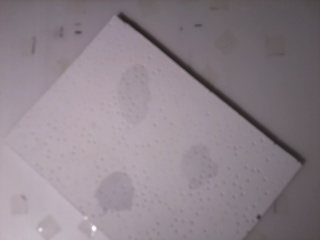Water_detected: (99, 174, 136, 213), (180, 149, 219, 186), (122, 74, 144, 112)
